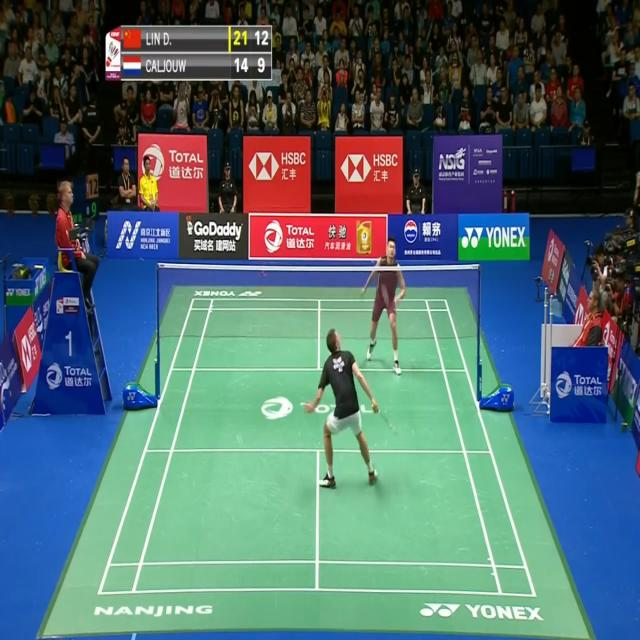Player1: (303, 326, 383, 492)
Player2: (358, 236, 408, 376)
